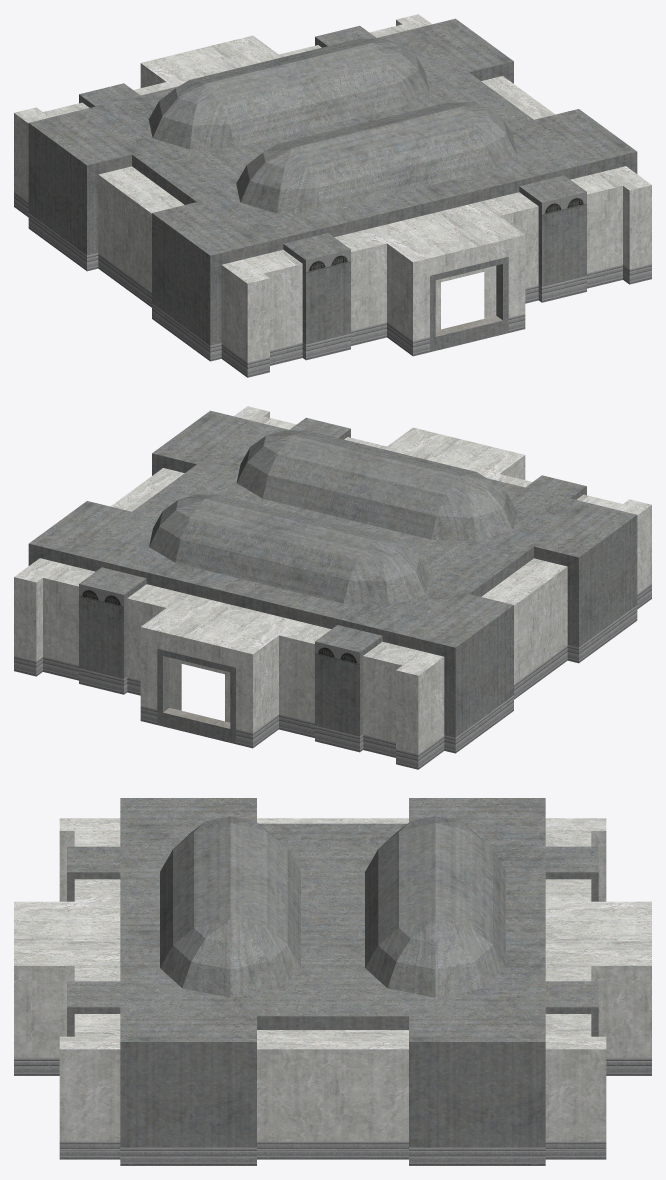
File: mun_corl_hospital_s02_r0_mesh_l1.fbx
The picture shows the model from 3 angles, top to bottom: view 1: azimuth 30°, elevation 25°; view 2: azimuth 150°, elevation 25°; view 3: azimuth 270°, elevation 25°; orthographic projection. The views are drawn at different scales.
Visible parts, largest first — view 1: mesh_node; view 2: mesh_node; view 3: mesh_node.
Boxes of the visible parts, x1,y1,x2,y2 form: mesh_node: [14, 14, 651, 377]; mesh_node: [14, 406, 651, 769]; mesh_node: [14, 798, 651, 1165].
Bounding box in the file's own units: 38 × 12.56 × 42.
